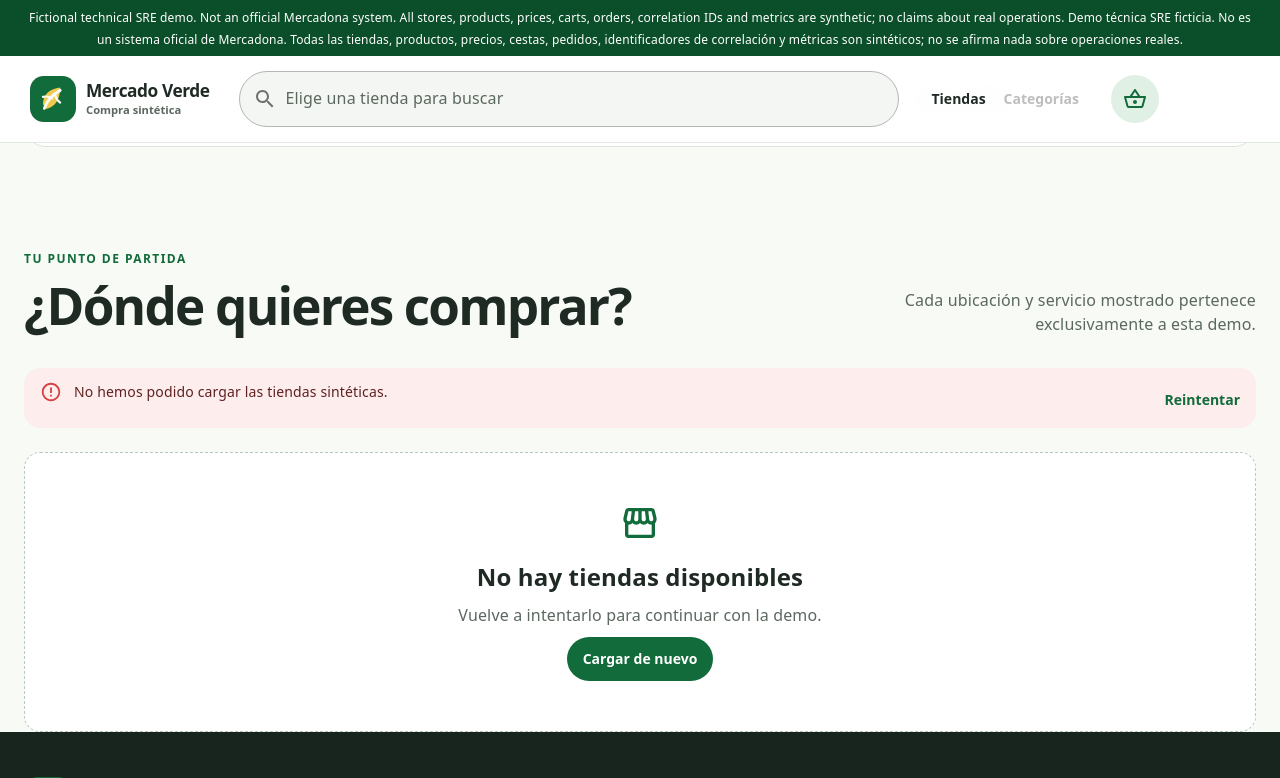
Test: shows a recoverable error when synthetic stores cannot load
The image size is (1280, 778).
(page scrolled)
Expected: the text "No hemos podido cargar las tiendas sintéticas." is shown, [74, 382, 388, 401]
Step 1. Click the button "Reintentar" → (1202, 400), box [1157, 378, 1248, 422]
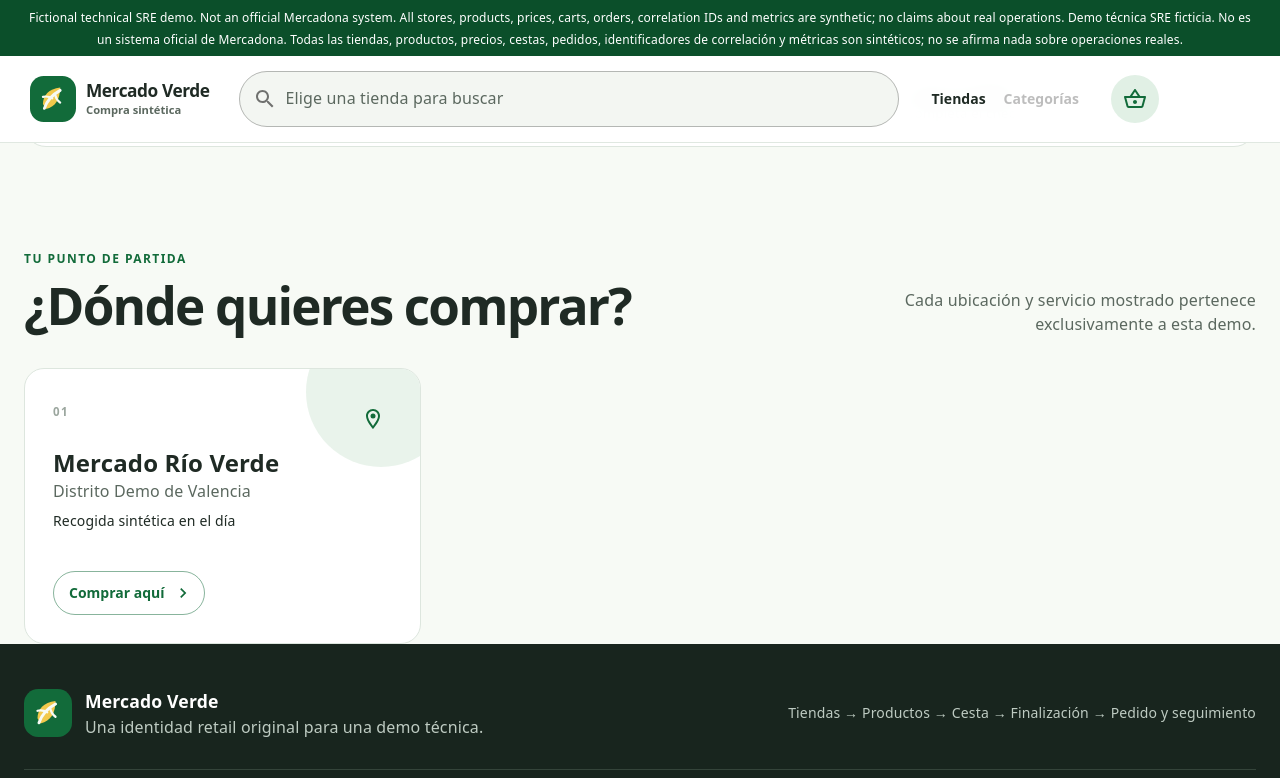
Now the heading "Mercado Río Verde" is shown, box [53, 446, 279, 479]
